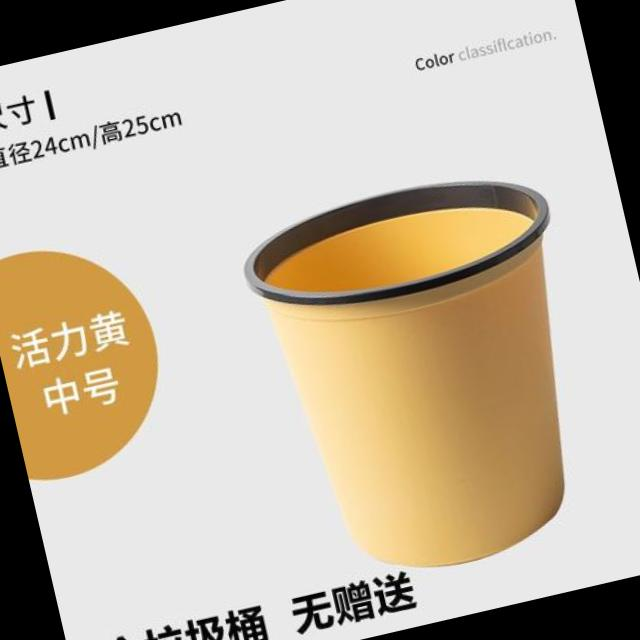dustbin: (230, 148, 628, 603)
